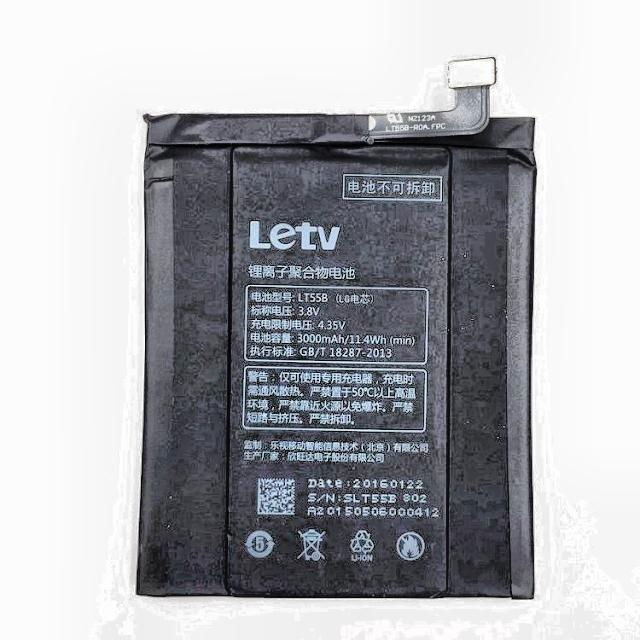Non-Valuable Waste - Batteries: (139, 60, 534, 598)
